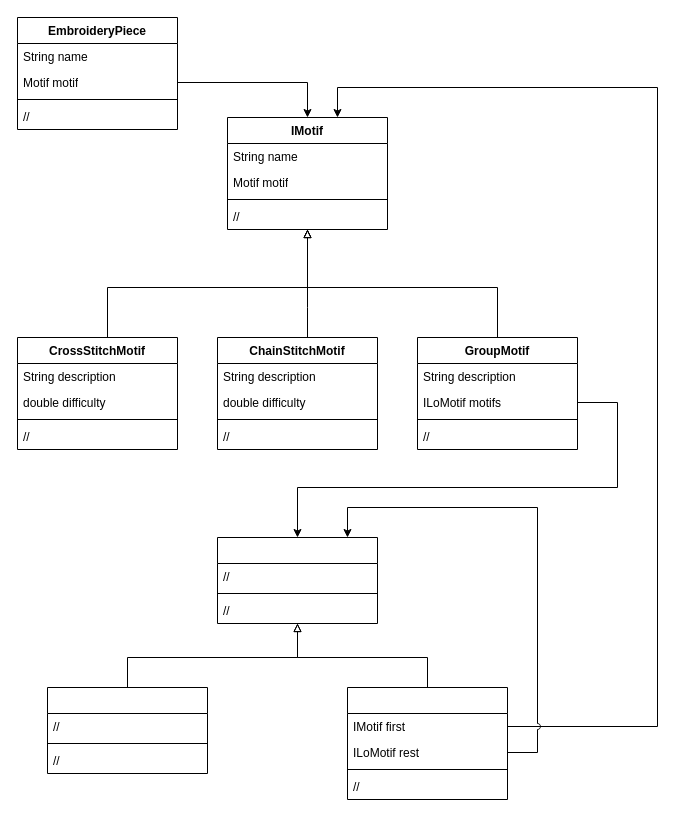
Image size: 683x820. Some labels were removed from this diagram. Here are the shapes that lost their labels. From the top down, the box of each, then its label:
(216, 536, 378, 624): ILoMotif
(46, 686, 208, 774): MtMotif
(346, 686, 508, 800): ConsMotif
